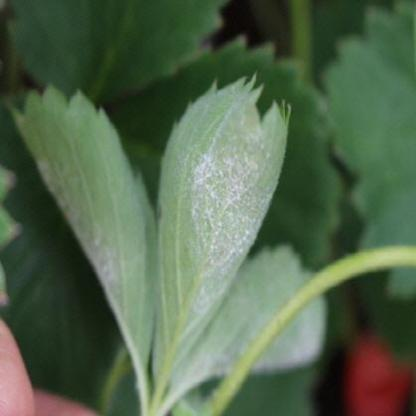Strawberry_Powdery_Mildew_Leaf: (148, 69, 292, 396), (8, 82, 156, 390), (160, 243, 332, 415)
